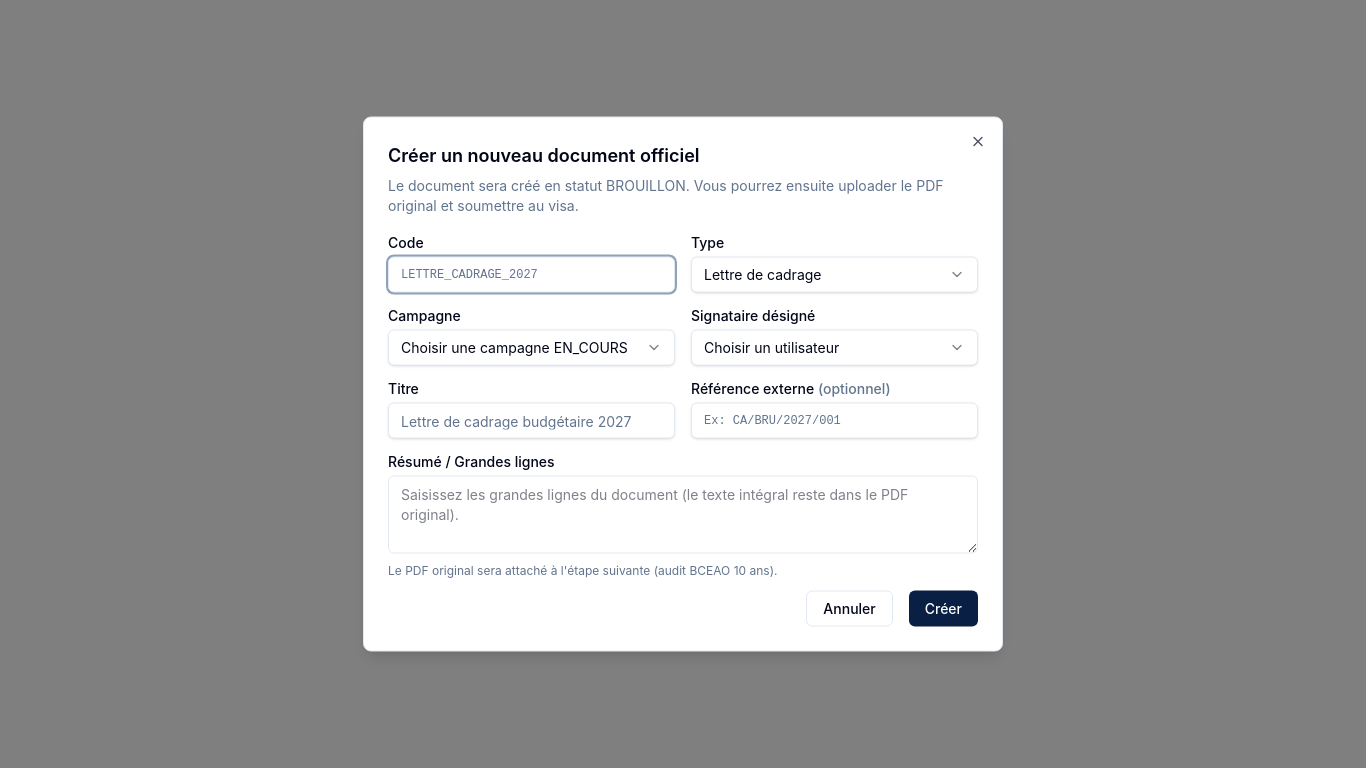
it: CreerDocumentModal (Lot 8.2.B P3) › 2. validation : code invalide (minuscules) → message d'erreur affiché
Type "code_minuscule" into the field labelled "Code".
click(532, 274); type("code_minuscule")  # box [388,256,675,292]
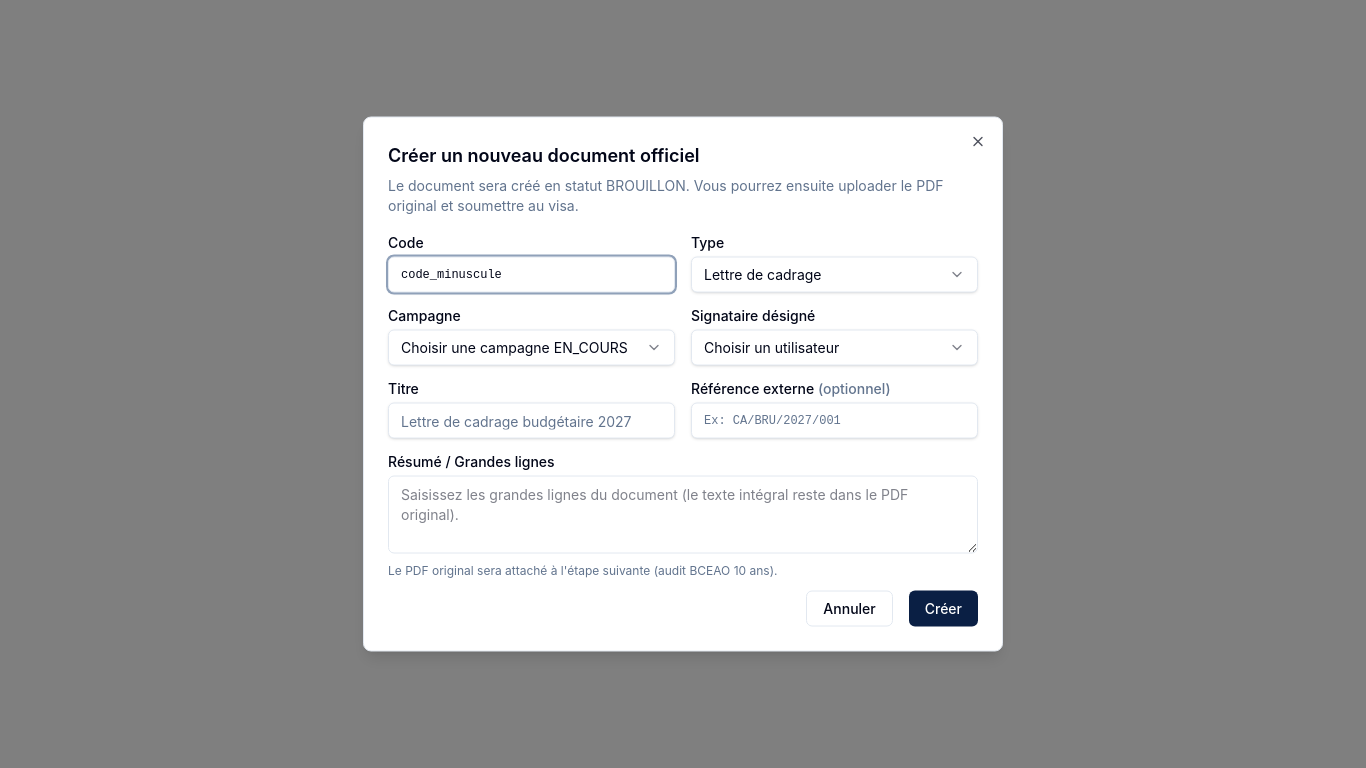
Type "Test" into the field labelled "Titre".
click(532, 420); type("Test")  # box [388,402,675,438]
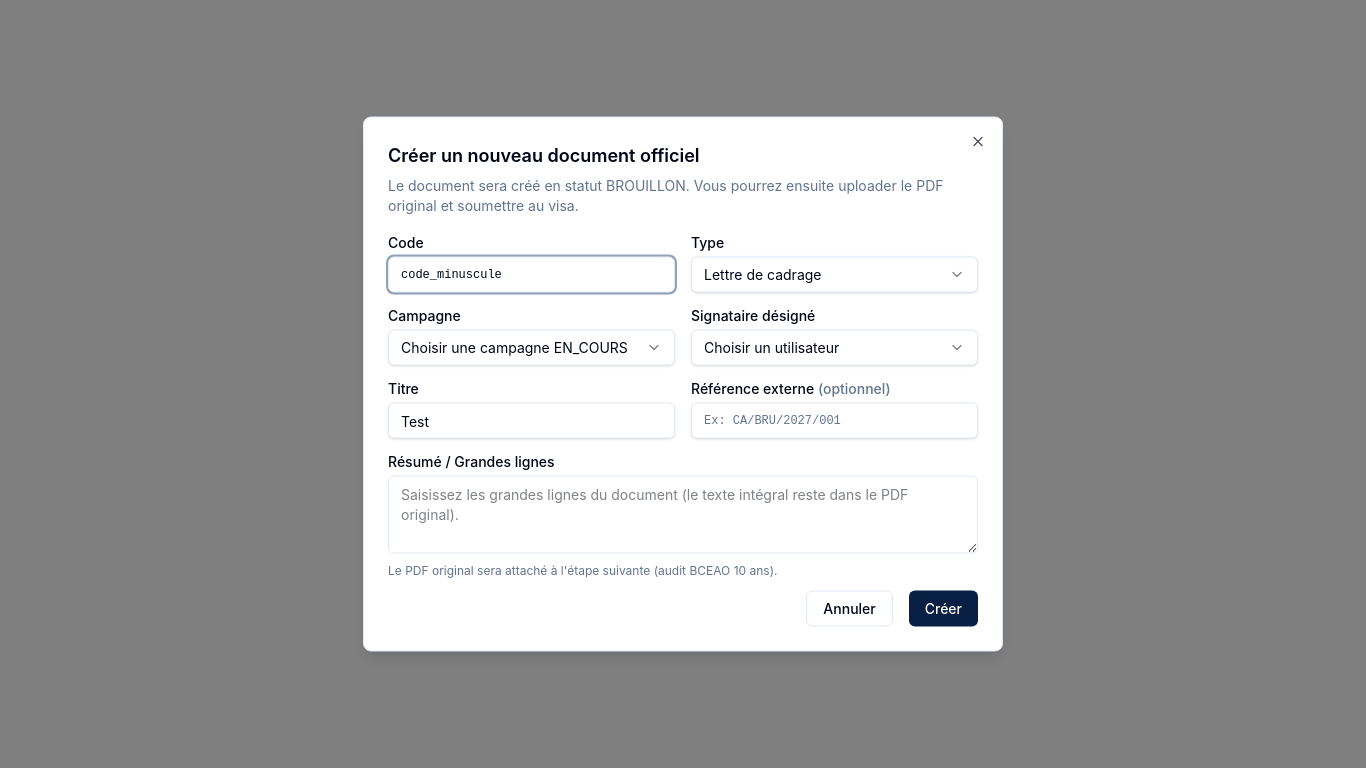
Replace the text in the text box labelled "Résumé / Grandes lignes" with "Contenu test" at (683, 514), box [388,476,978,554]
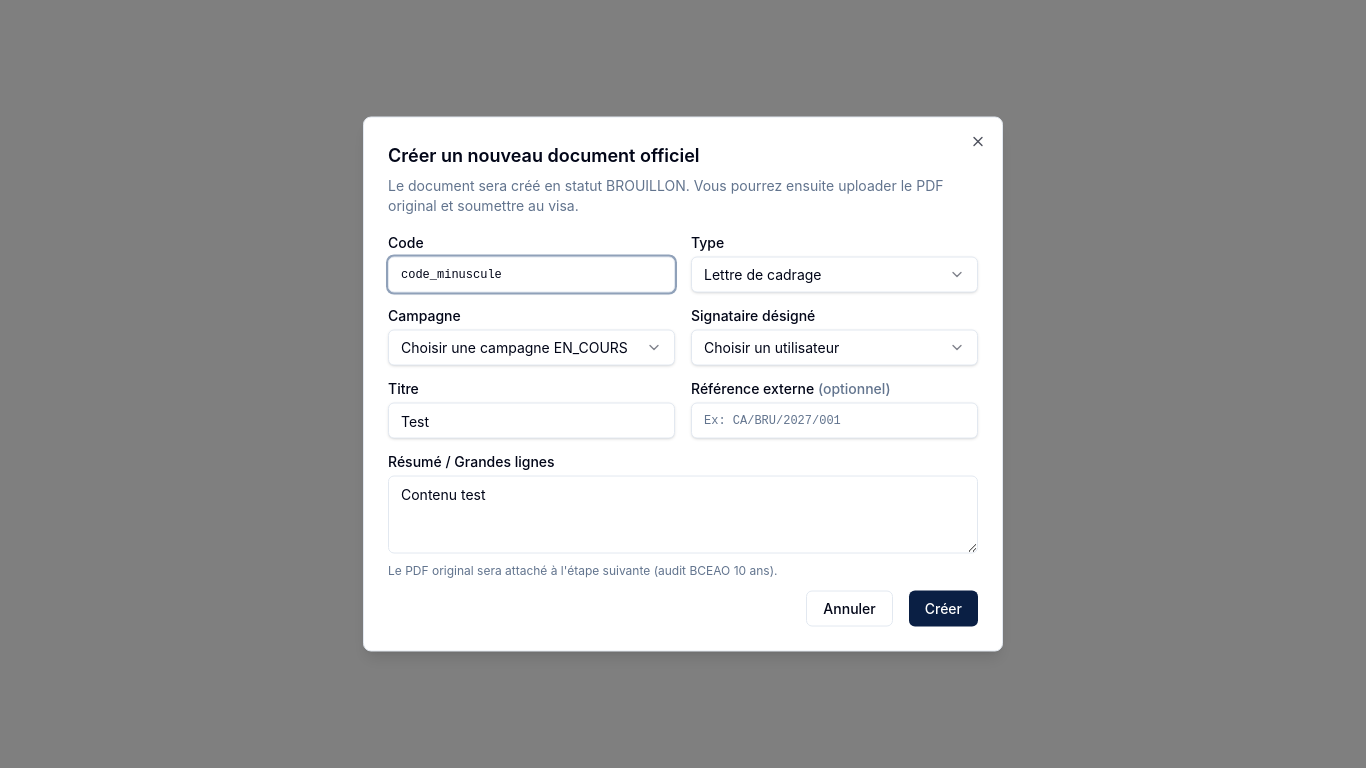
Click the button with test id "btn-submit-creer-document".
click(943, 608)  # box [909,590,978,626]
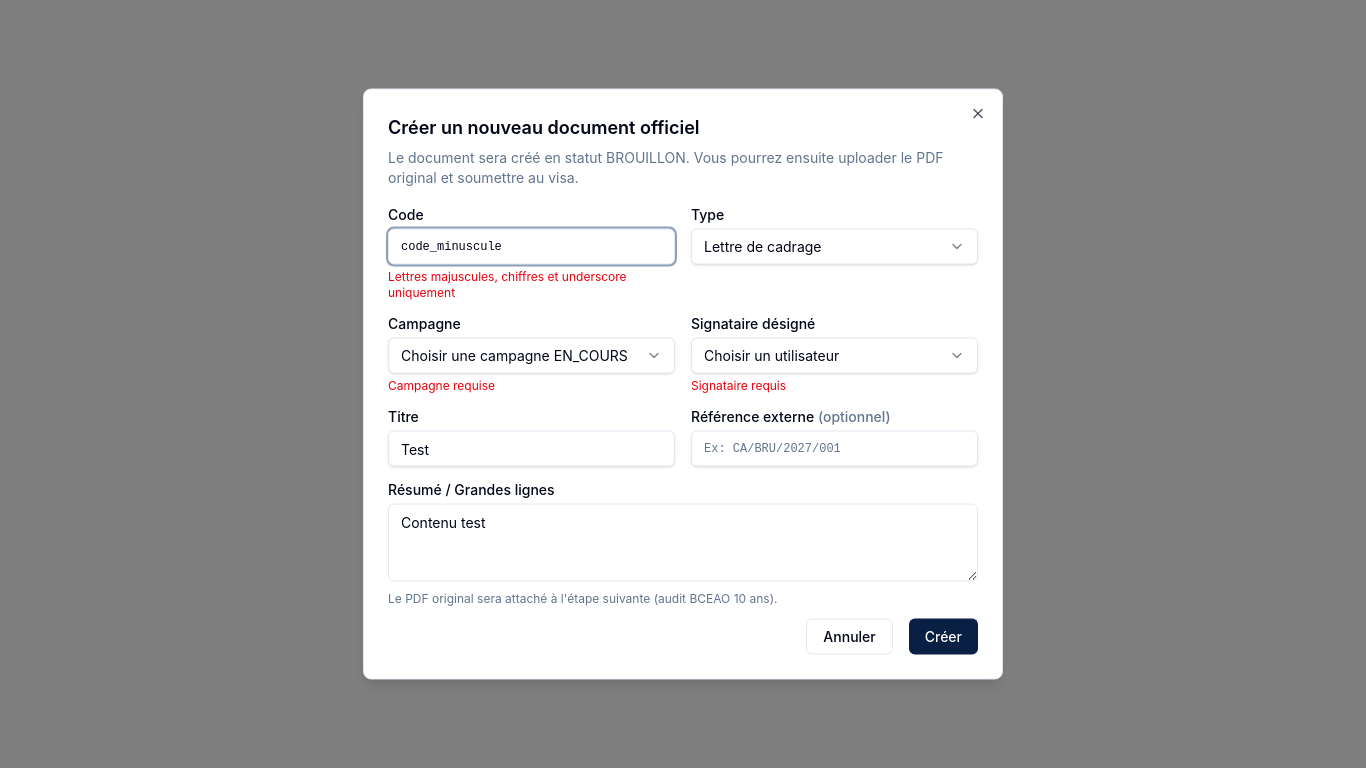
Expected: the text with test id "err-code" shows "majuscules", [388,268,627,300]
